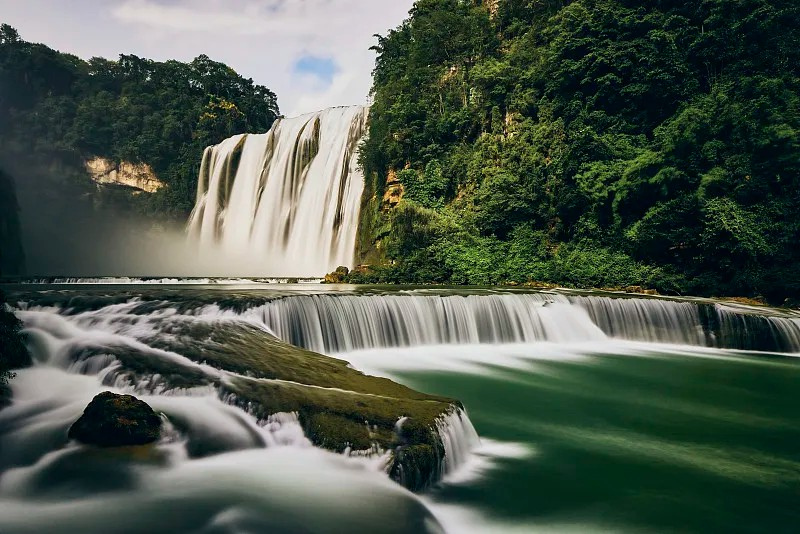Huangguoshu: (188, 106, 365, 277)
